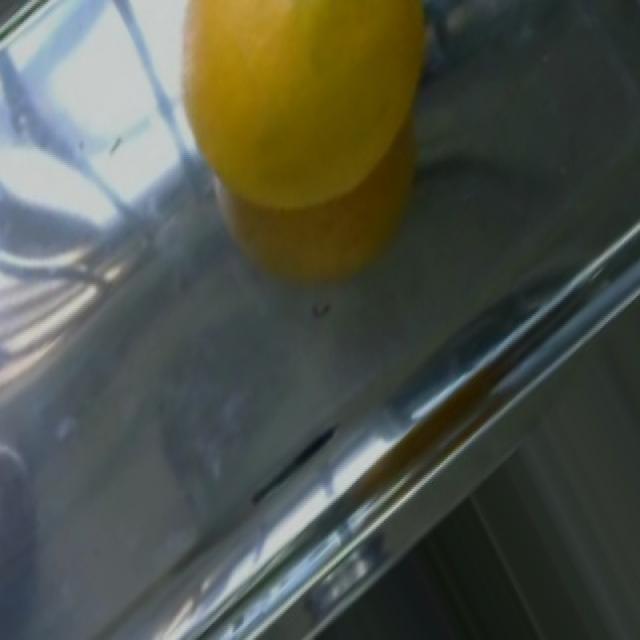Fruit: (160, 0, 451, 316)
